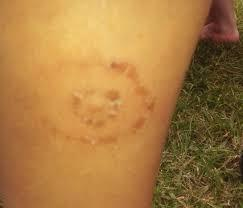Tick: (49, 62, 142, 145)
